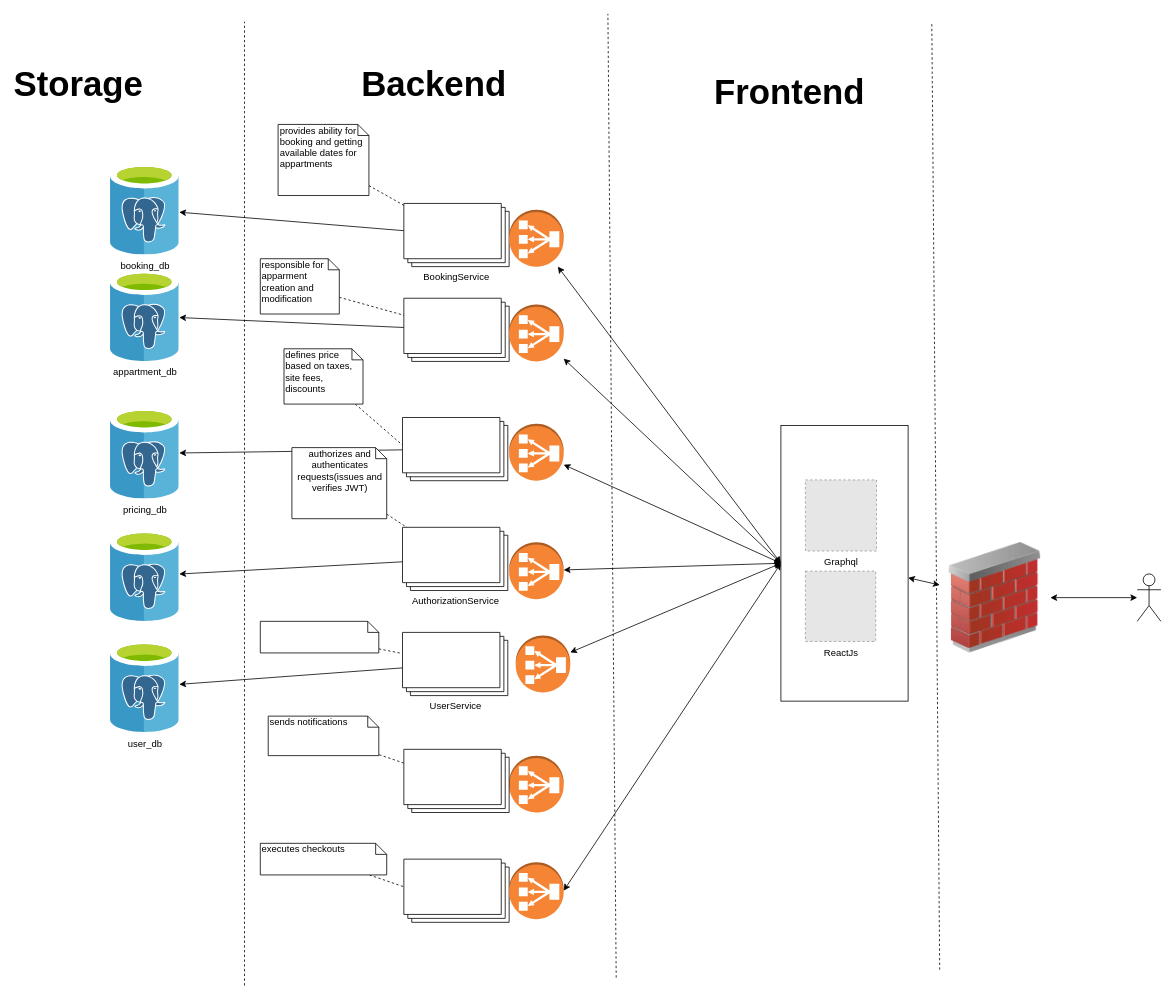
Some shapes in this 1175 by 1000 pixel diagram are drawn without their labels. Grey dashed boxes stand in for pictures. Here are the shapes that lost their labels. From the top down, the box of each, then its label:
(403, 297, 509, 361): CommodityService
(402, 417, 508, 481): PricingService
(110, 530, 179, 621): authorization_db
(1136, 573, 1161, 621): Actor
(260, 621, 379, 653): responsible for user creation and modification
(403, 749, 509, 813): NotificationService
(403, 858, 509, 922): CheckoutService
